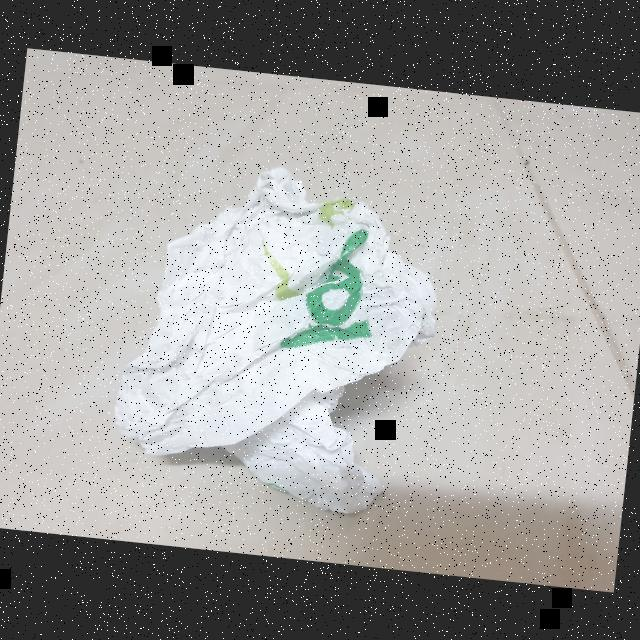plastic_bag: (98, 148, 464, 530)
